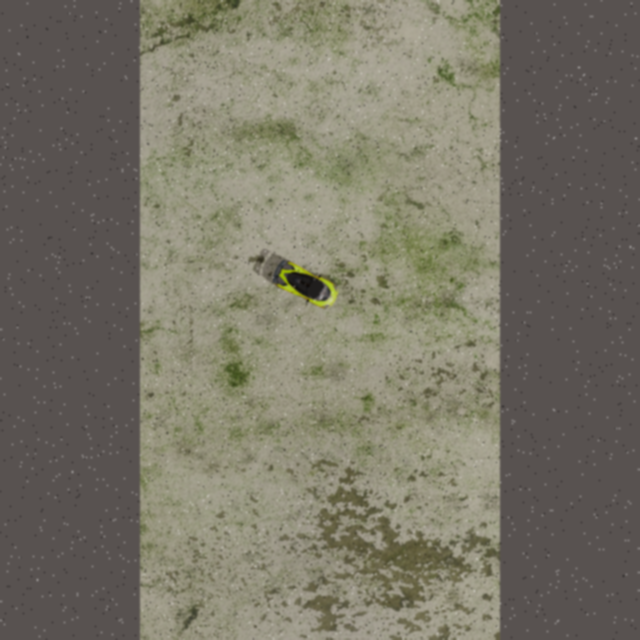car: (267, 256, 342, 313)
